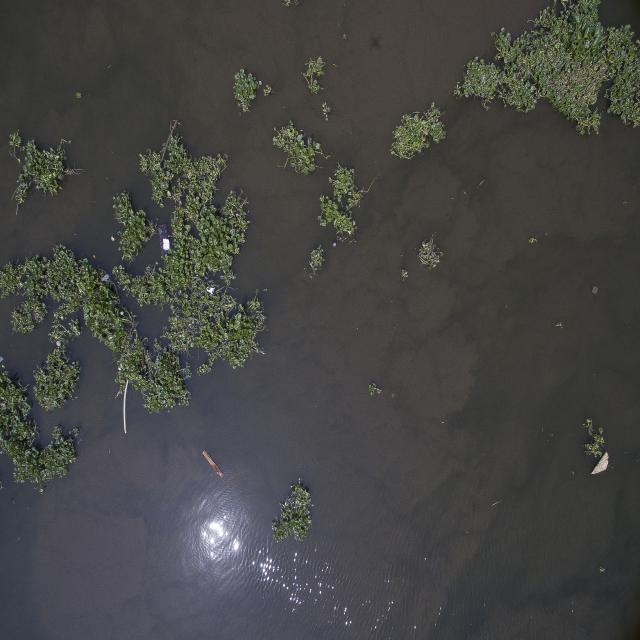Plastic: (592, 446, 611, 479), (162, 232, 172, 254)
